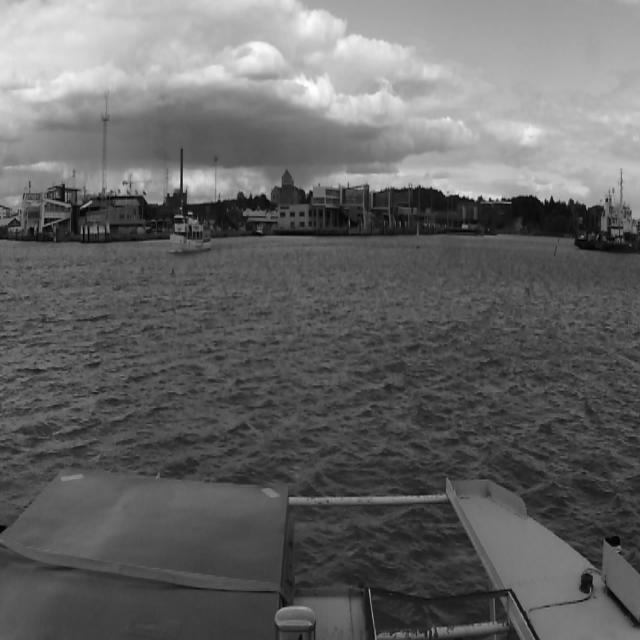buoy: (415, 224, 420, 250)
ship: (574, 167, 640, 253), (169, 214, 212, 251)
